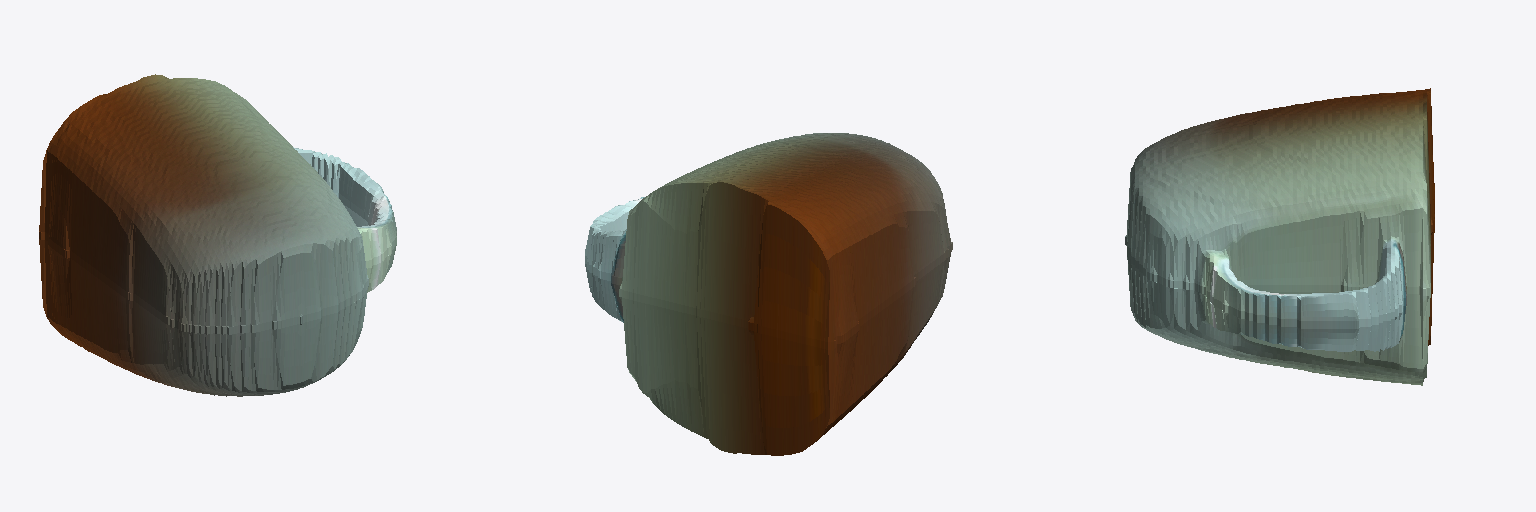
3 views of the same model, side by side, from view 1: azimuth 30°, elevation 25°; view 2: azimuth 150°, elevation 25°; view 3: azimuth 270°, elevation 25° (orthographic).
Visible parts, largest first — view 1: Grid; view 2: Grid; view 3: Grid.
Part boxes in pixels (x1,y1,x2,y2): Grid: (39,74,396,396); Grid: (585,133,952,455); Grid: (1125,88,1434,385).
Bounding box in the file's own units: 1.54 × 1.4 × 1.46.
2 materials, 1 textured.